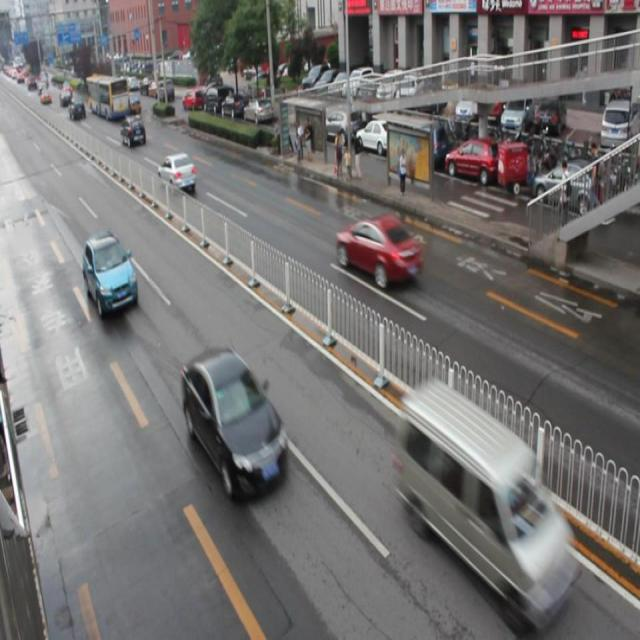car: (179, 349, 287, 500), (334, 213, 424, 286), (82, 232, 140, 316), (156, 152, 197, 191), (121, 114, 146, 149)
truck: (393, 380, 577, 624)
